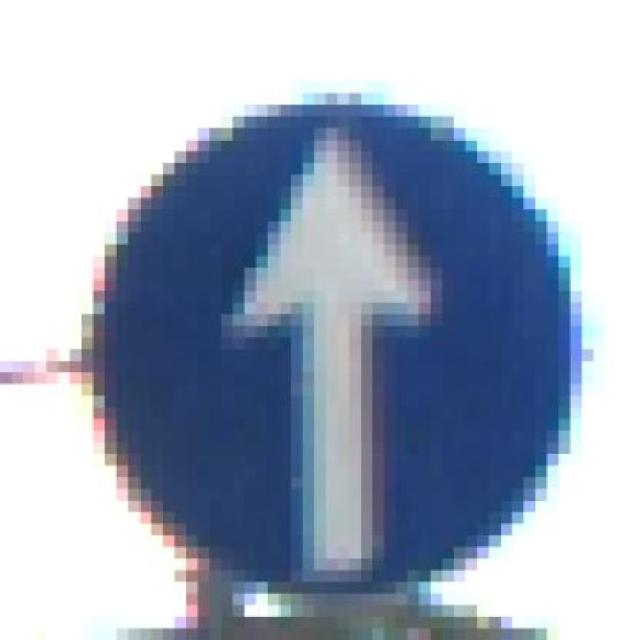Straight Ahead Only: (81, 81, 594, 594)
